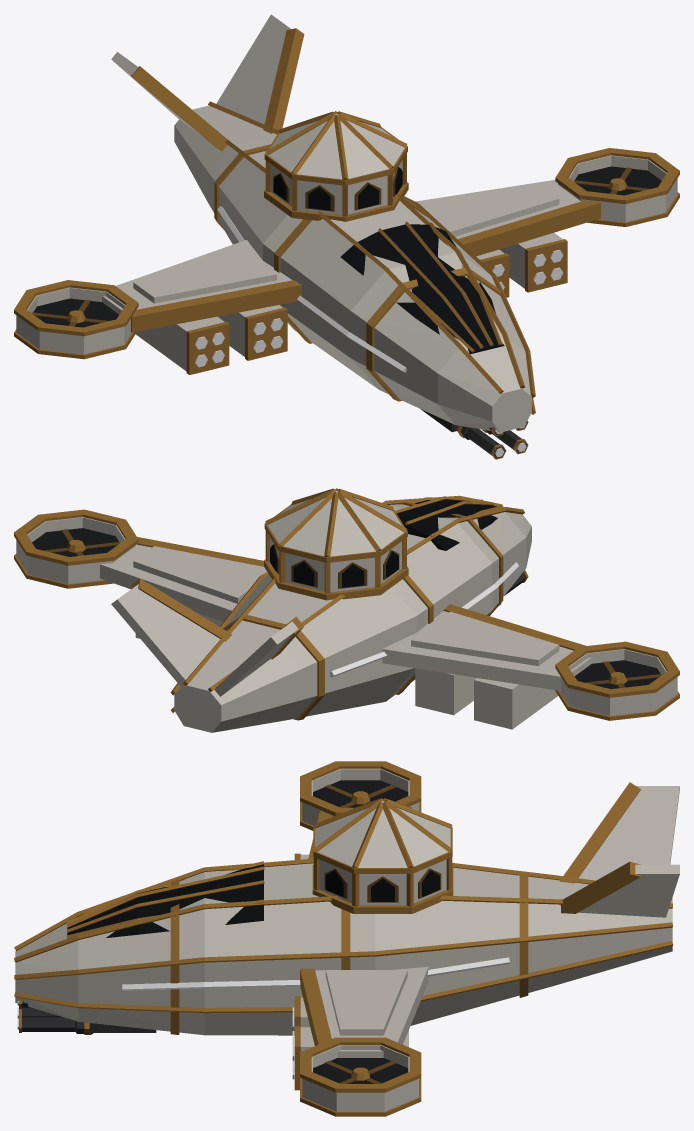
File: gunship_t2.glb
3 renders of one model, top to bottom at view 1: azimuth 30°, elevation 25°; view 2: azimuth 150°, elevation 25°; view 3: azimuth 270°, elevation 25°, orthographic. The views are drawn at different scales.
Visible parts, largest first — view 1: body; view 2: body; view 3: body.
Boxes of the visible parts, x1,y1,x2,y2 form: body: (14,14,679,459); body: (14,488,679,732); body: (14,761,679,1116).
Size of the model in its own units: 11.48 by 3.71 by 9.86.
